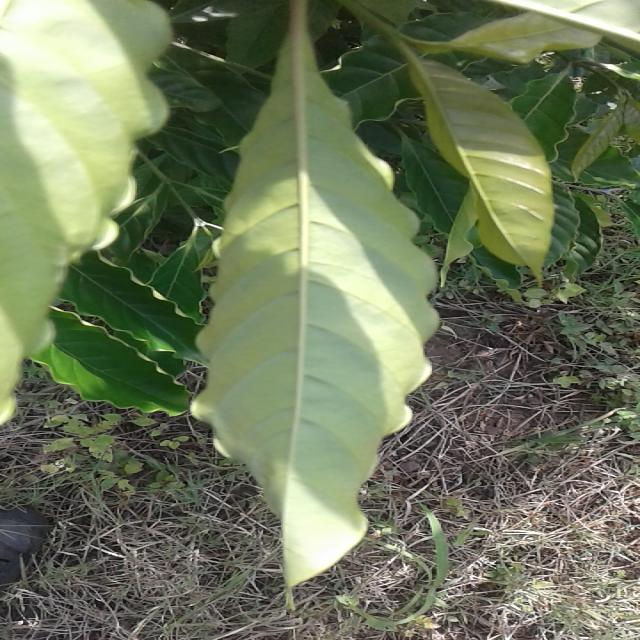Sanas: (189, 0, 444, 599)
